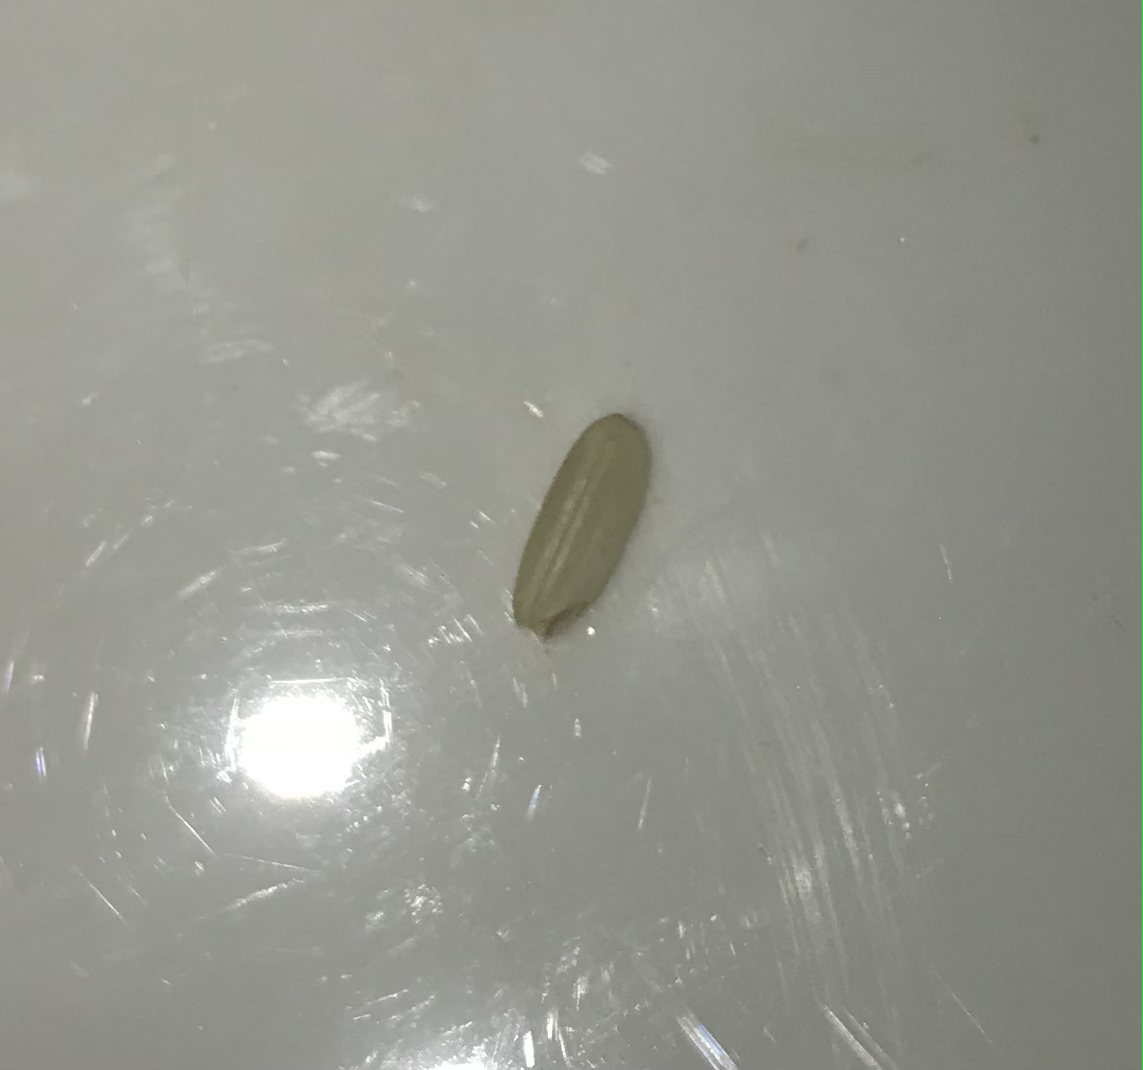Gao Lut Trang: (504, 416, 675, 646)
